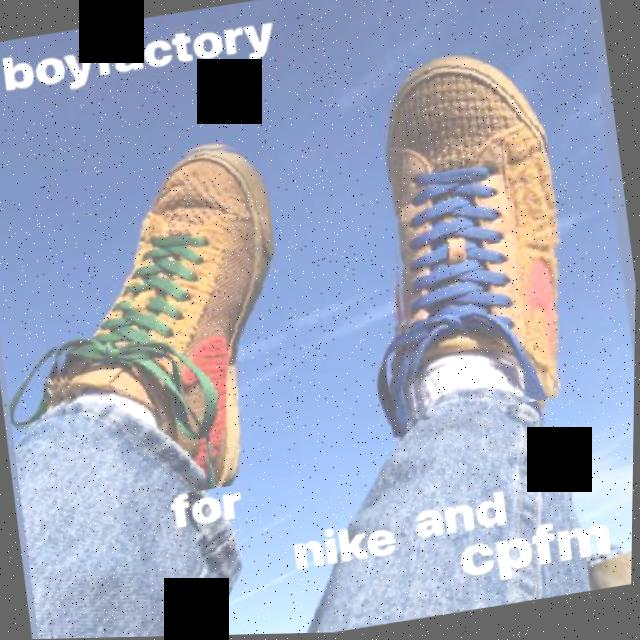shoe: (20, 135, 309, 514), (359, 42, 587, 426)
